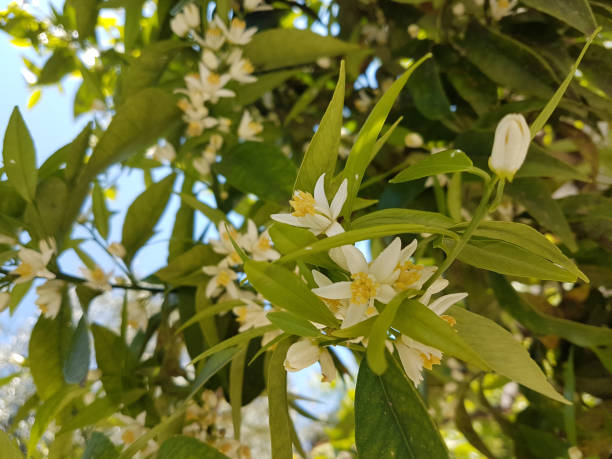flower: (309, 244, 396, 339), (265, 175, 372, 236), (9, 235, 60, 285), (235, 223, 291, 267), (201, 259, 251, 307), (209, 15, 264, 55), (195, 64, 238, 105), (80, 265, 119, 298)
